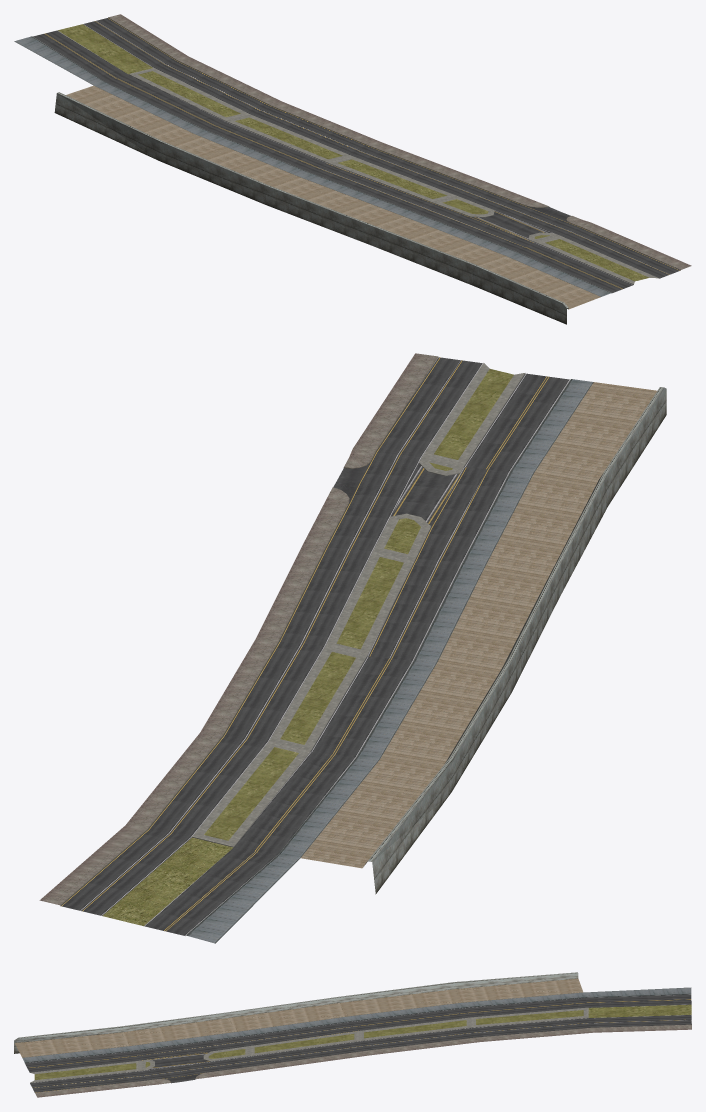
The model's file is lae2_roadscoast03.obj.
The picture shows the model from 3 angles, top to bottom: view 1: azimuth 30°, elevation 25°; view 2: azimuth 150°, elevation 25°; view 3: azimuth 270°, elevation 25°; orthographic projection. The views are drawn at different scales.
Visible parts, largest first — view 1: lae2_roadscoast03; view 2: lae2_roadscoast03; view 3: lae2_roadscoast03.
Boxes of the visible parts, <box> form: lae2_roadscoast03: <box>14,14,691,324</box>; lae2_roadscoast03: <box>39,353,666,943</box>; lae2_roadscoast03: <box>14,972,691,1097</box>.
Bounding box in the file's own units: 121 × 8.18 × 283.
